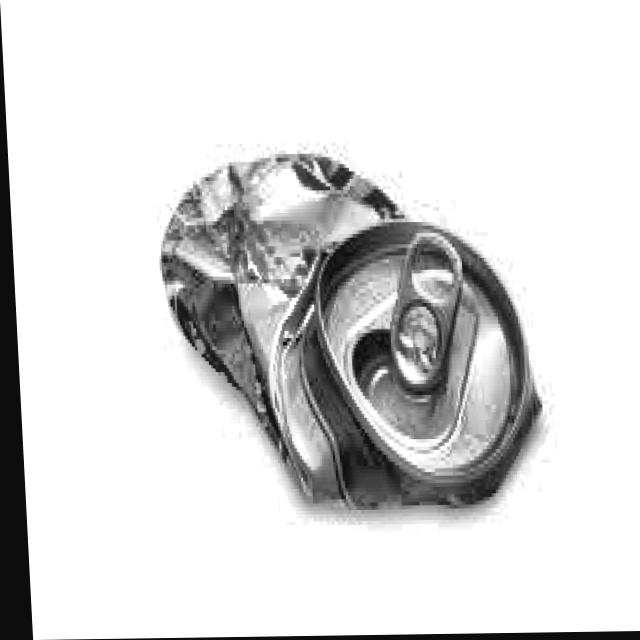can: (139, 130, 558, 535)
